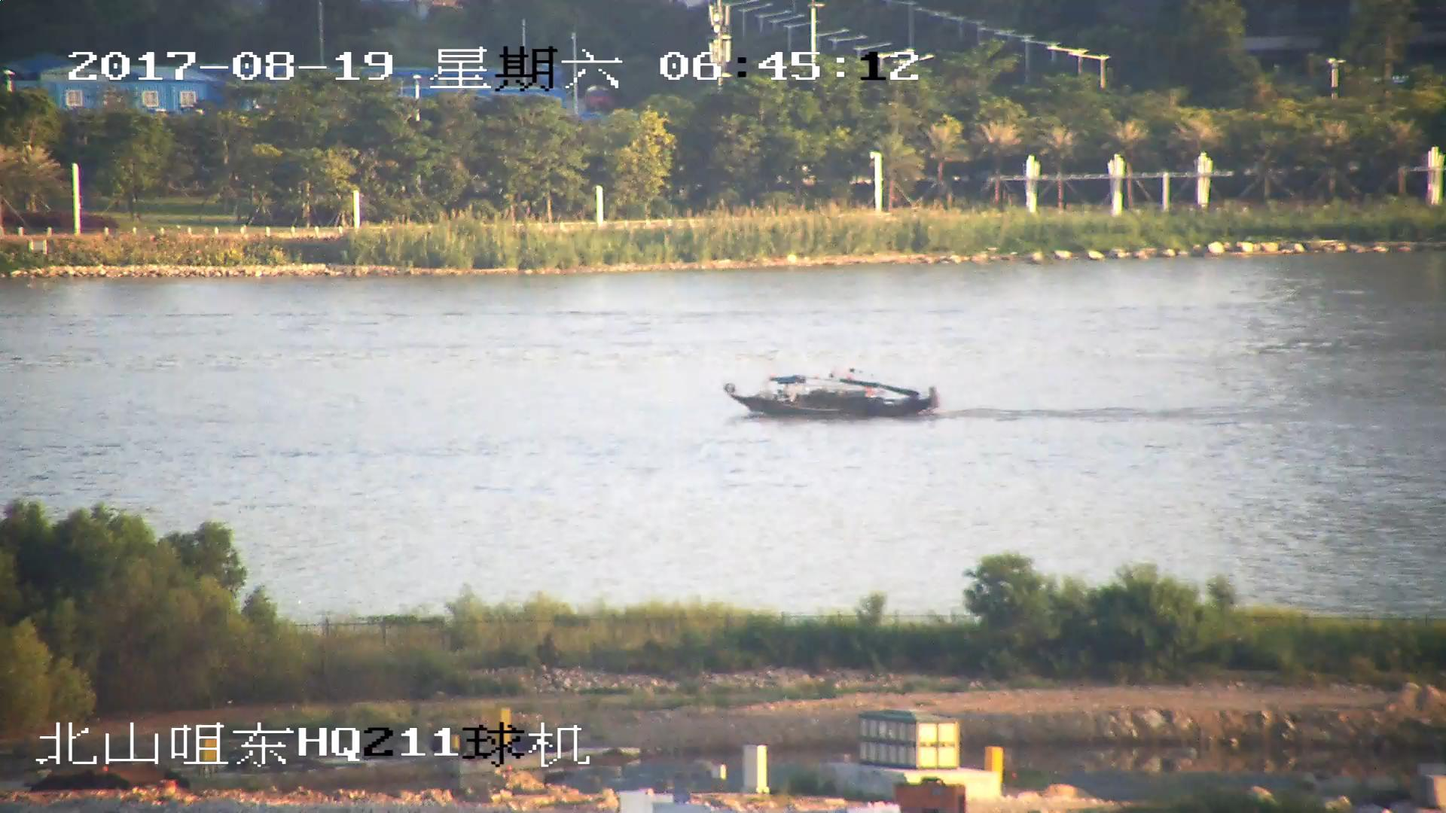fishing boat: (725, 365, 940, 419)
